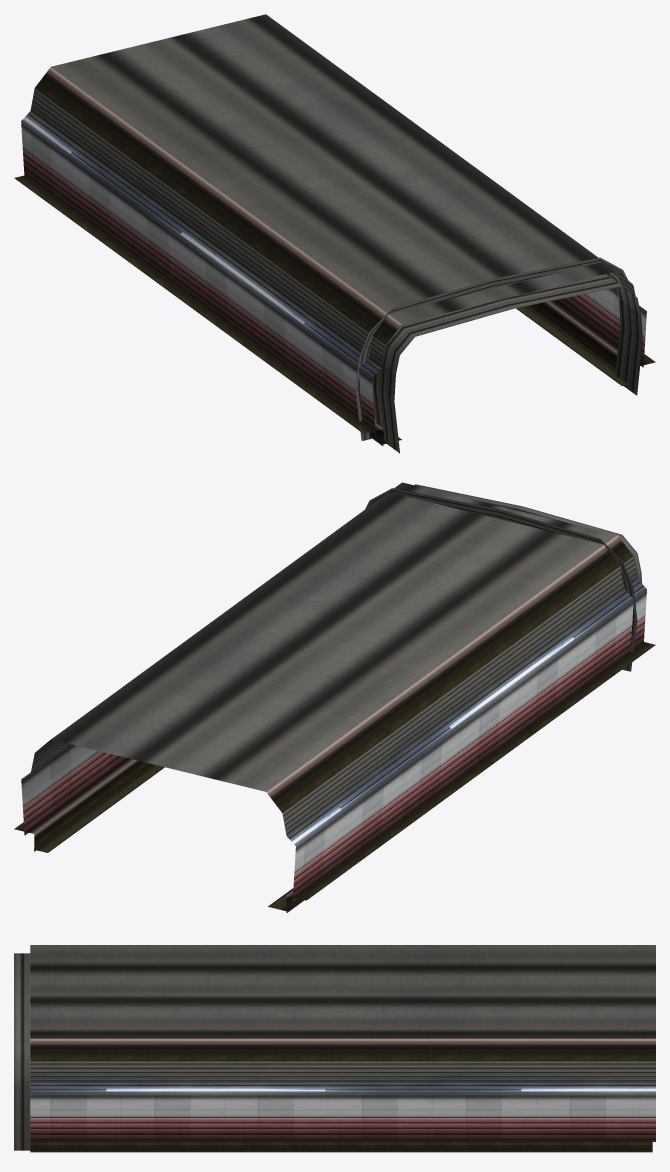
Rendered from tunnel_ny_short.fbx.
3 views of the same model, one above another, from view 1: azimuth 30°, elevation 25°; view 2: azimuth 150°, elevation 25°; view 3: azimuth 270°, elevation 25° (orthographic). The views are drawn at different scales.
Visible parts, largest first — view 1: tunnel_ny_short; view 2: tunnel_ny_short; view 3: tunnel_ny_short.
Boxes of the visible parts, bbox=[...] form: tunnel_ny_short: bbox=[14, 14, 655, 453]; tunnel_ny_short: bbox=[14, 482, 655, 912]; tunnel_ny_short: bbox=[14, 945, 655, 1152].
Bounding box in the file's own units: 2417 × 1029 × 5153.
